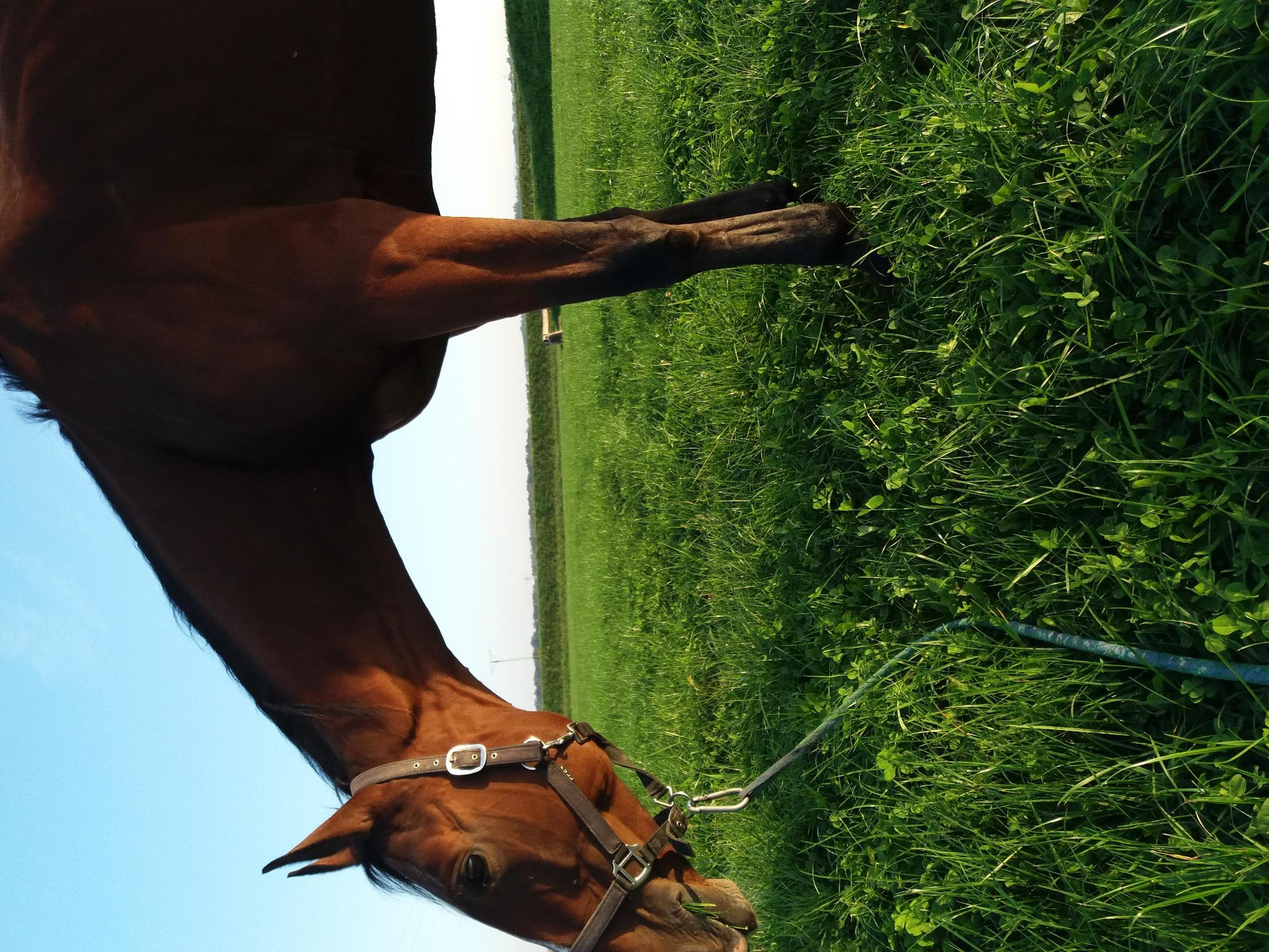horse: (1, 1, 873, 950)
